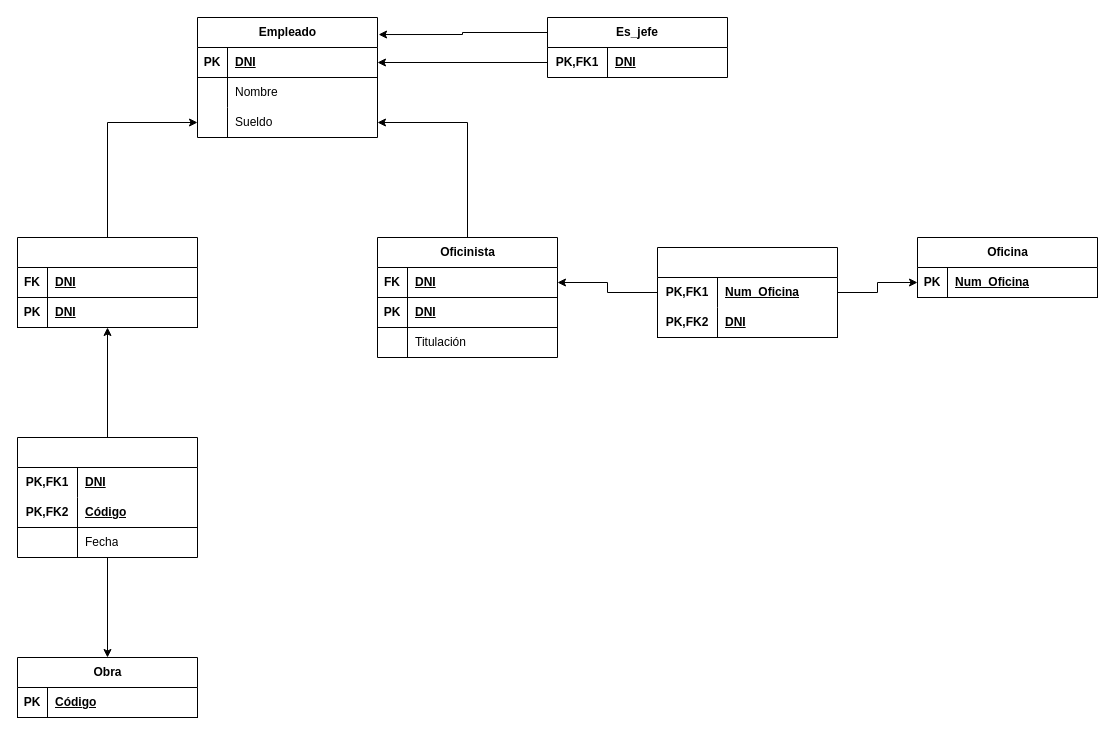
This 1115x735 diagram has some shape labels left out. The shapes that lost their labels are listed below. From the top down, each one's box as (x1, y1, x2, y2) in pixels, then its label:
(16, 236, 198, 328): Obrero
(656, 246, 838, 338): Asignado
(16, 436, 198, 558): Trabaja
